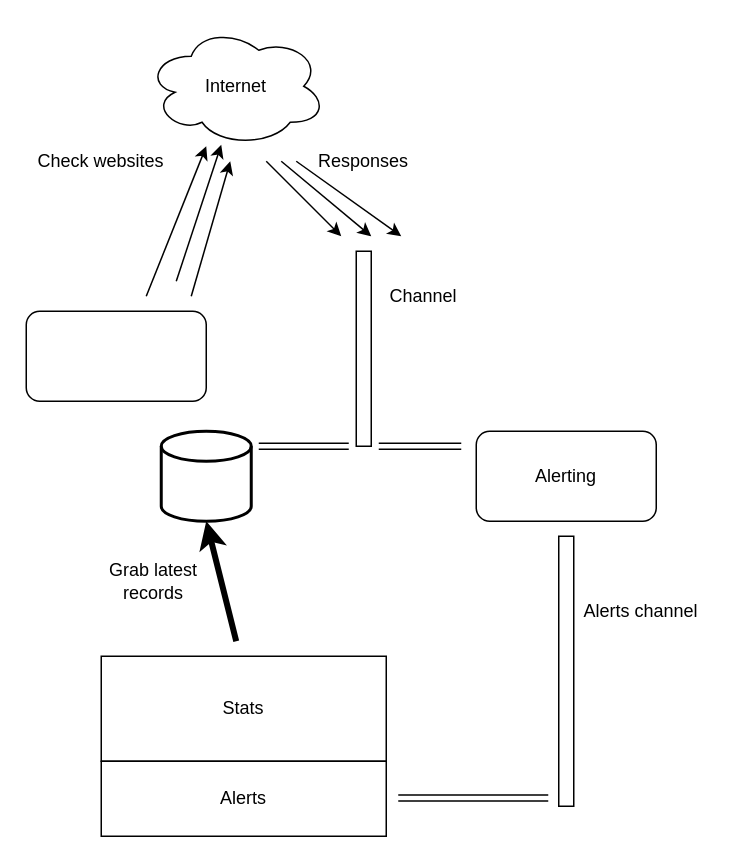
The diagram is 743 pixels wide and 863 high, and some of its shapes have lost their labels. Each missing label, with the centre of its shape:
InfluxDB: (205,475)
Monitor: (115,355)
